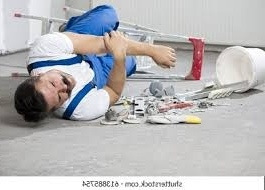fall: (14, 4, 177, 127)
